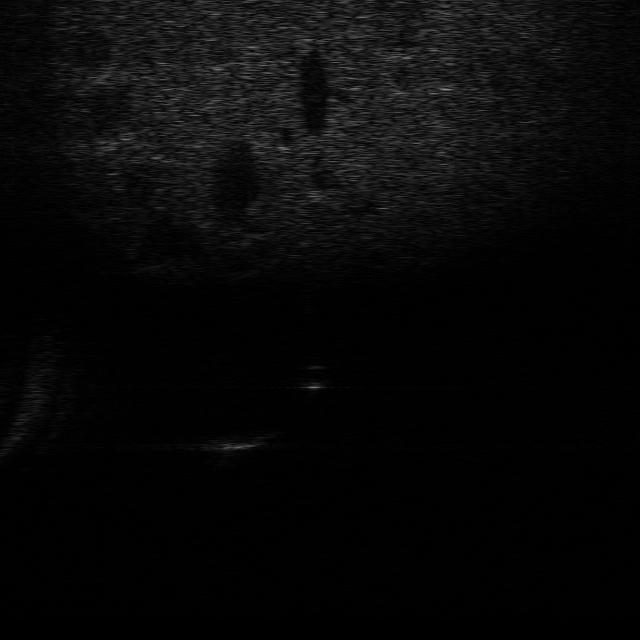ball: (282, 360, 344, 396)
square cage: (192, 425, 292, 467)
